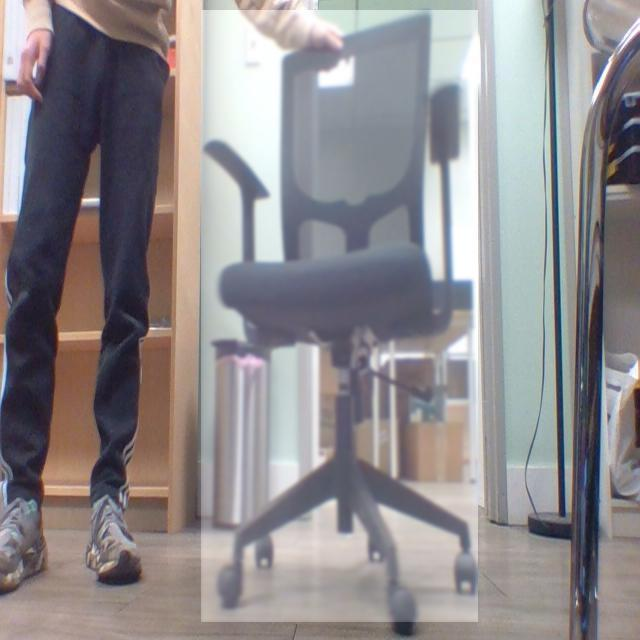chair: (206, 5, 491, 640)
